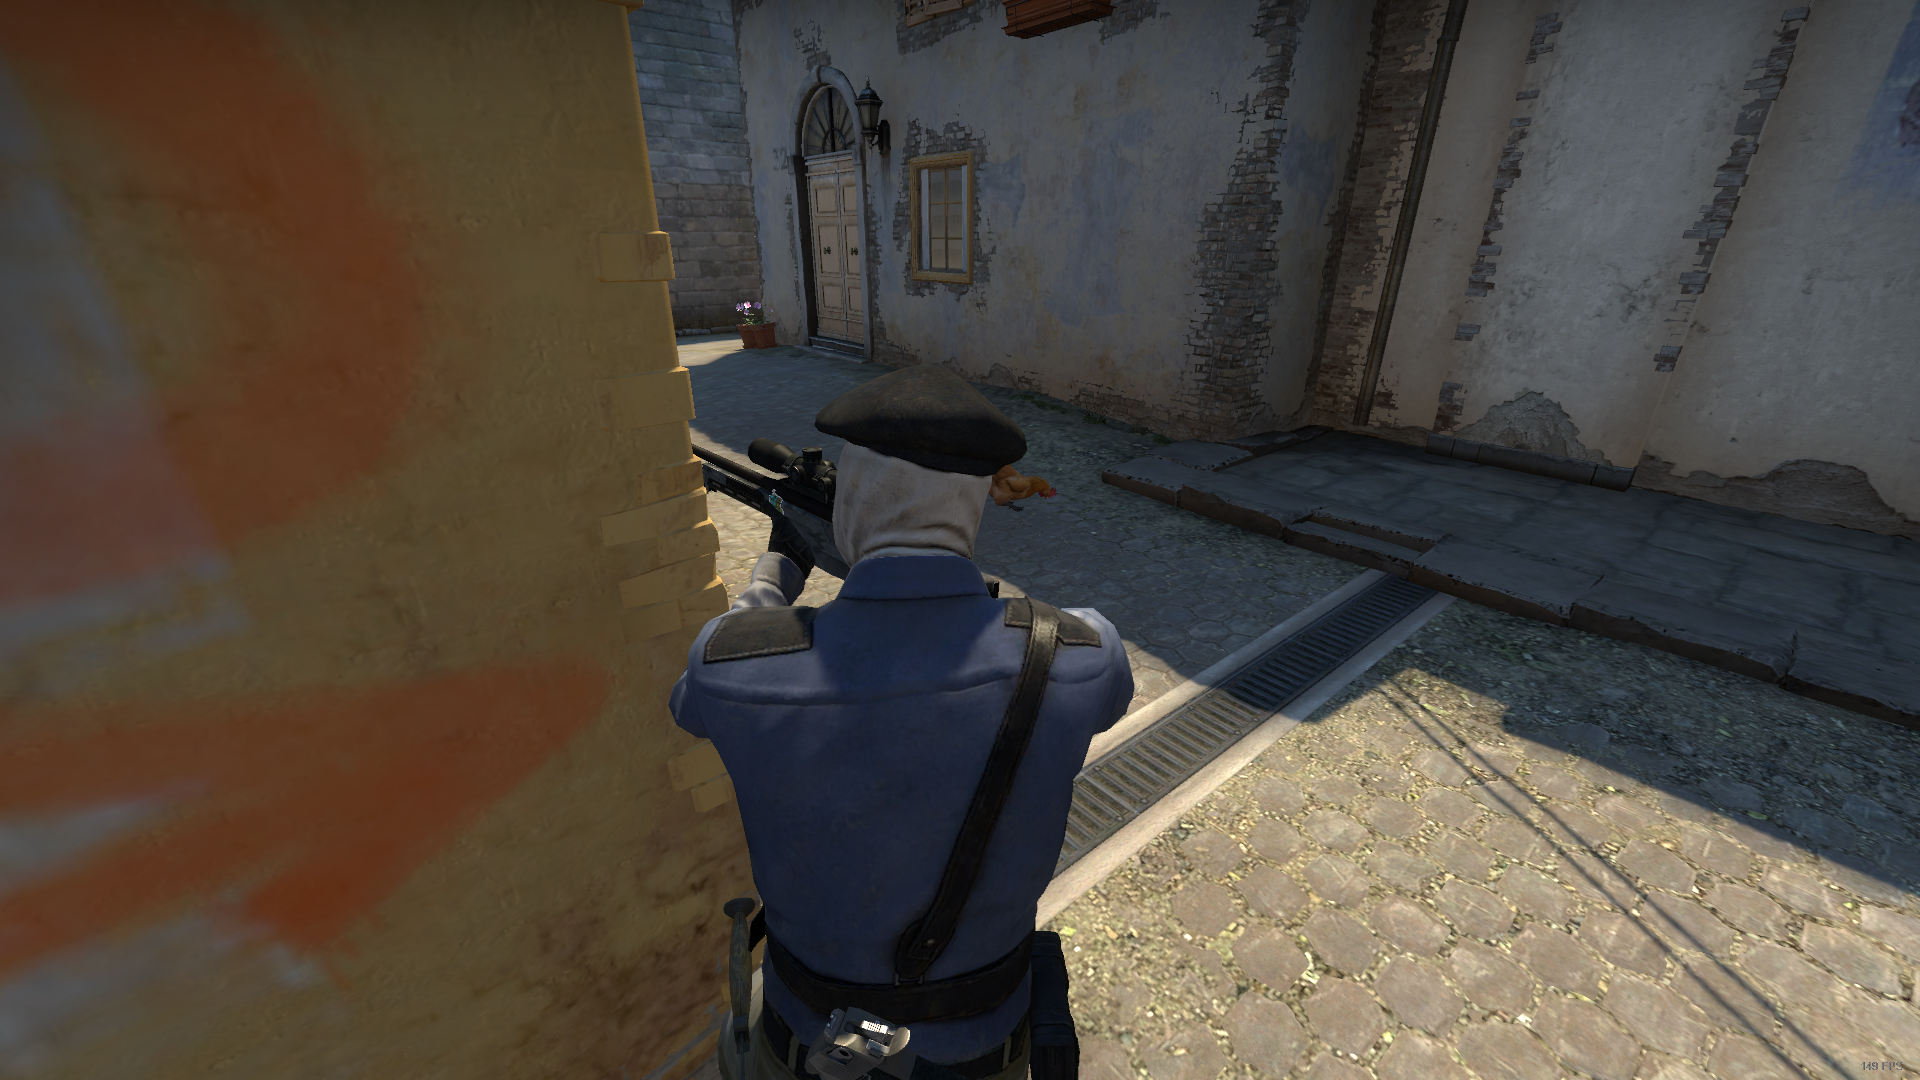t: (662, 357, 1171, 1080)
